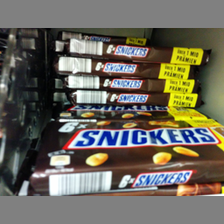chocolate: (35, 120, 224, 195), (55, 41, 207, 109)
